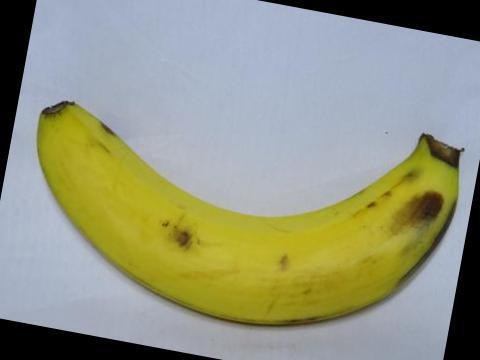freshripe: (27, 92, 470, 343)
